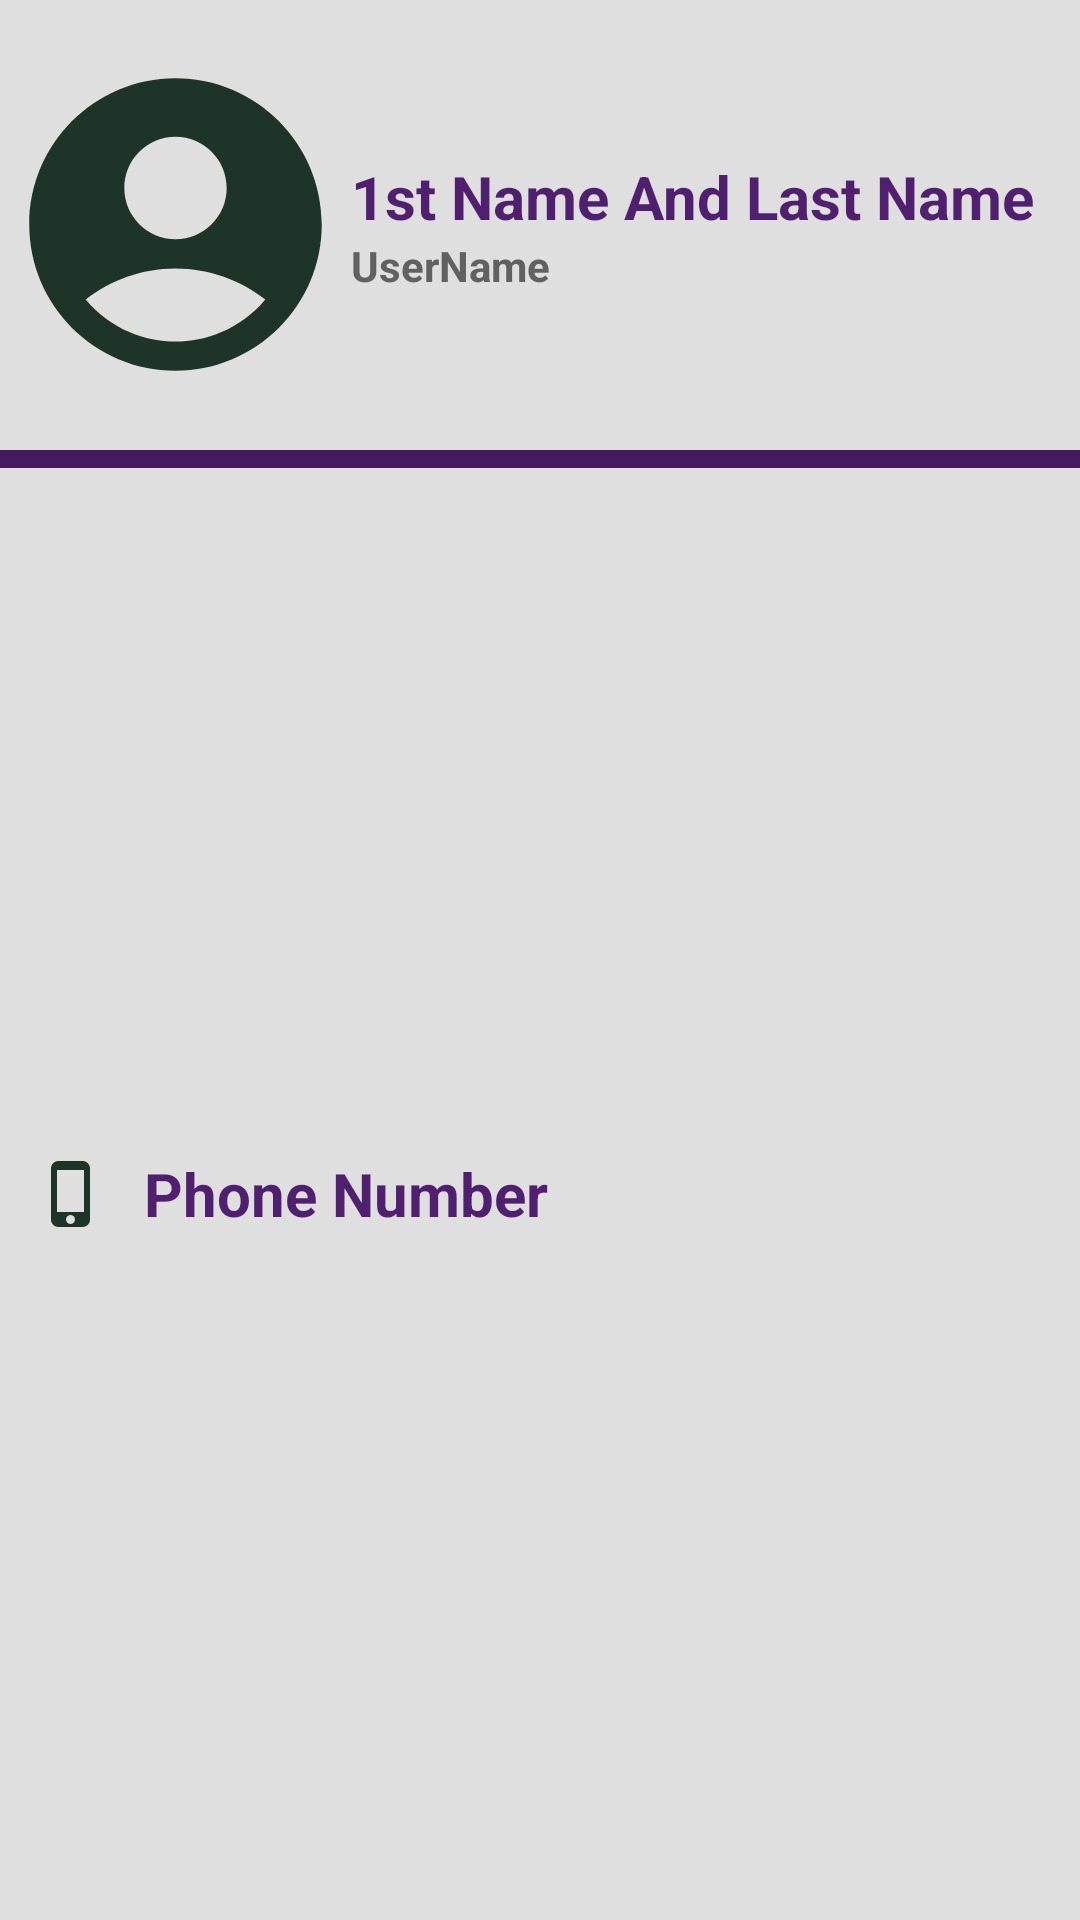

Named icons in this screenshot (1080x1920) and their bounding boxes, (x1,y1,x2,y2):
phone iphone: (51,1161,90,1227)
profile frag: (29,78,322,371)
